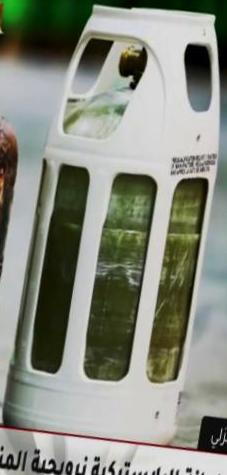cylinder: (1, 1, 227, 475)
